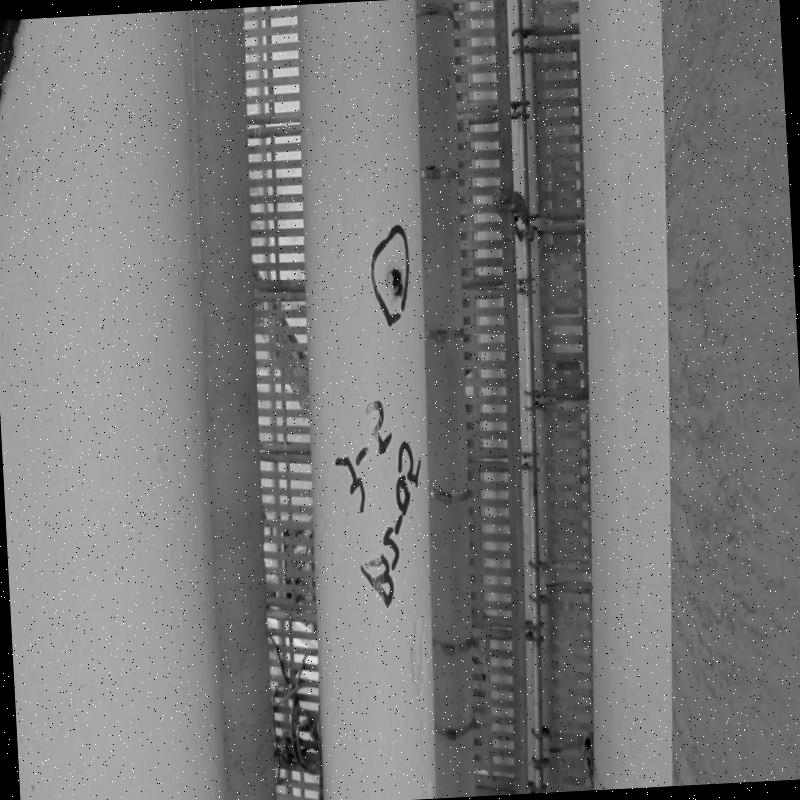corrosion: (388, 266, 406, 301)
